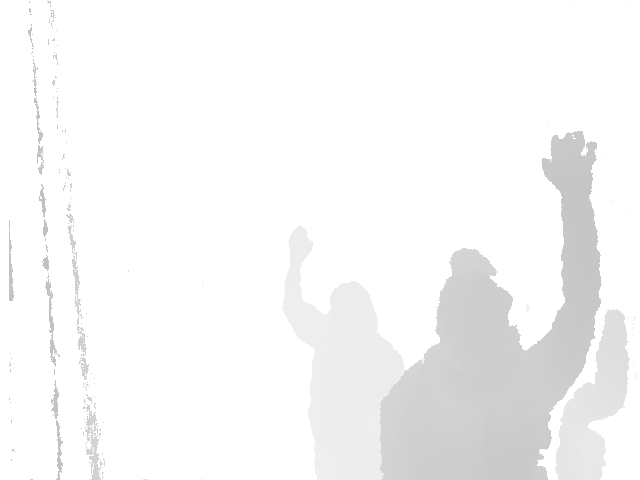hand: (540, 130, 596, 200), (287, 226, 313, 264)
head: (437, 247, 513, 366), (328, 280, 376, 358)
person: (377, 130, 602, 480), (282, 226, 405, 480)
